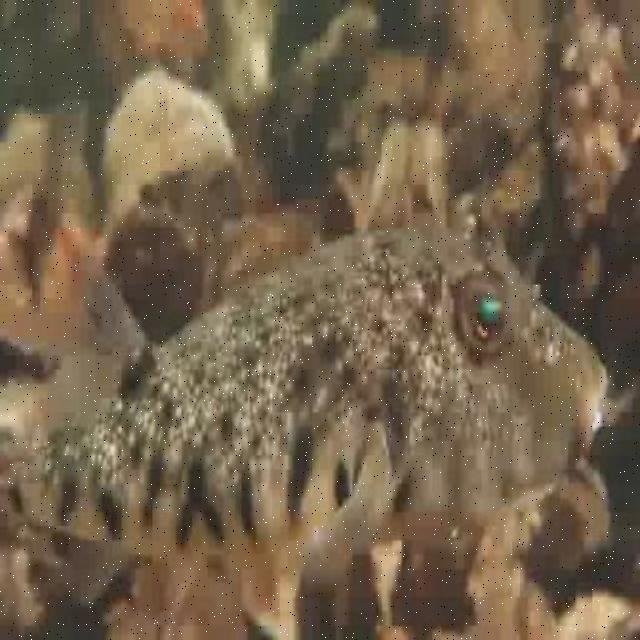Oyster-Closed: (544, 9, 631, 324), (267, 5, 380, 192), (103, 79, 232, 233), (200, 210, 318, 311), (534, 455, 612, 580), (370, 123, 411, 228), (555, 595, 640, 640), (409, 121, 447, 220)
Oyster-Open: (0, 181, 76, 354)
